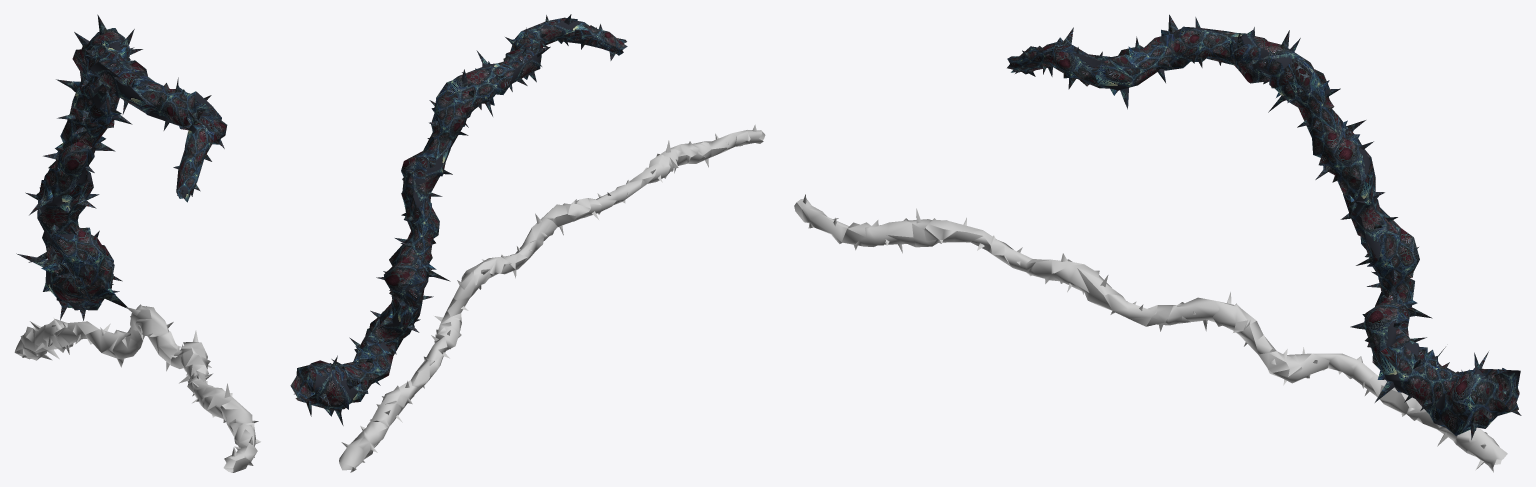
Rendered from 02_09_Makaizyu.fbx.
3 renders of one model, left to right at view 1: azimuth 30°, elevation 25°; view 2: azimuth 150°, elevation 25°; view 3: azimuth 270°, elevation 25°, orthographic. The views are drawn at different scales.
Visible parts, largest first — view 1: LODGroup_3_MainMesh_1_SubMesh_2, LODGroup_3_MainMesh_1_SubMesh_1; view 2: LODGroup_3_MainMesh_1_SubMesh_2, LODGroup_3_MainMesh_1_SubMesh_1; view 3: LODGroup_3_MainMesh_1_SubMesh_2, LODGroup_3_MainMesh_1_SubMesh_1.
Boxes of the visible parts, box(x1,y1,x2,y2) form: LODGroup_3_MainMesh_1_SubMesh_2: box(16, 14, 227, 320); LODGroup_3_MainMesh_1_SubMesh_1: box(14, 304, 260, 472); LODGroup_3_MainMesh_1_SubMesh_2: box(290, 14, 627, 425); LODGroup_3_MainMesh_1_SubMesh_1: box(339, 124, 765, 472); LODGroup_3_MainMesh_1_SubMesh_2: box(1007, 14, 1521, 439); LODGroup_3_MainMesh_1_SubMesh_1: box(794, 194, 1507, 472).
Bounding box in the file's own units: 920 × 1581 × 2463.
